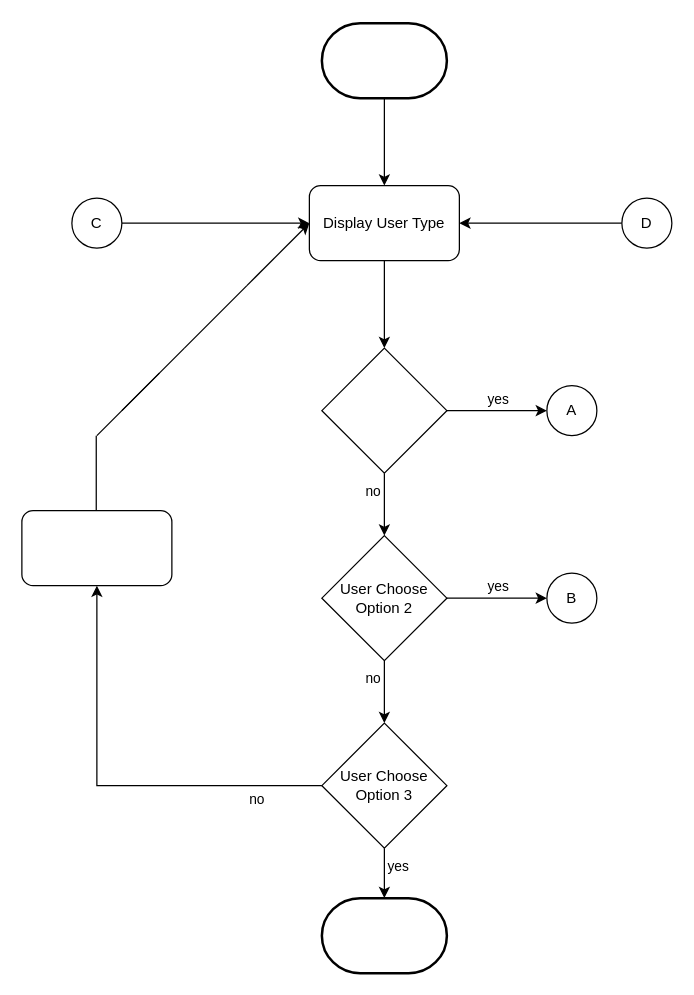
The diagram is 694 pixels wide and 995 high, and some of its shapes have lost their labels. The shapes that lost their labels are listed below. From the top down, each one's centre as x and y in pixels, then its label:
(x=384, y=60): Start
(x=384, y=410): User Choose Option 1
(x=96, y=547): Show notification "Pilihan tidak valid"
(x=384, y=935): End
